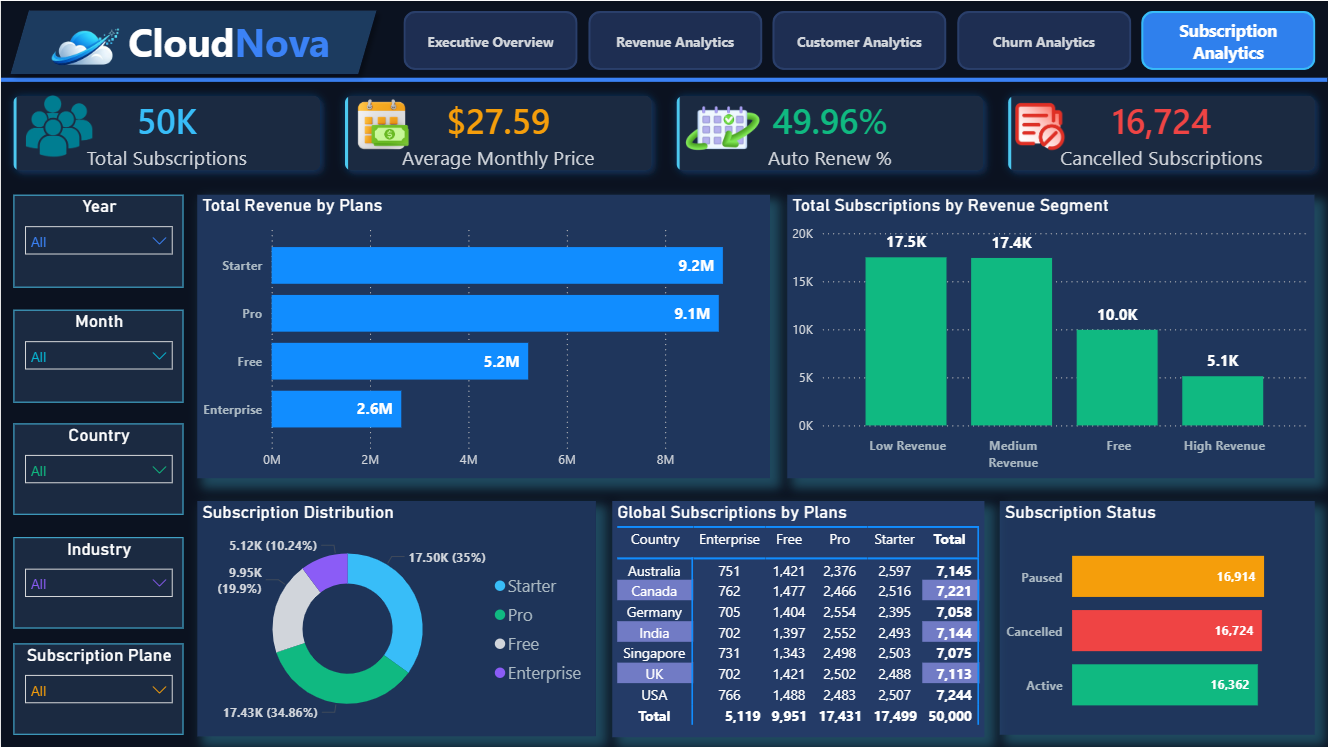

The page's visual inventory and layout, read from the dashboard file:
{"tool":"powerbi","page":{"name":"Subscription Analytics","canvas":[1280,720],"ordinal":4},"visuals":[{"type":"cardVisual","fields":{"Data":["customers_cleaned.Total Subscriptions","subscriptions_cleaned.Avg Monthly Price","subscriptions_cleaned.Auto Renew %","subscriptions_cleaned.Cancelled Subs"]},"box":[0,79.6,1280,96.5],"z":0},{"type":"shape","box":[0,57.5,1280,36.2],"z":1000},{"type":"image","box":[973.6,91.3,56,54.8],"z":2000},{"type":"image","box":[324.9,88.8,85.2,57.2],"z":3000},{"type":"image","box":[648.6,71.8,93.7,97.4],"z":4000},{"type":"image","box":[21.7,79.6,68.8,82],"z":5000},{"type":"clusteredBarChart","title":"Subscription Status","fields":{"Category":["subscriptions_cleaned.subscription_status"],"Y":["customers_cleaned.Total Subscriptions"]},"box":[963.9,482.6,304,225.6],"z":6000},{"type":"donutChart","title":"Subscription Distribution","fields":{"Category":["subscriptions_cleaned.plan_name"],"Y":["CountNonNull(subscriptions_cleaned.subscription_id)"]},"box":[189.8,483.1,384.6,227.6],"z":7000},{"type":"slicer","title":"Year","fields":{"Values":["Date_Table.Year"]},"box":[12.1,187,164.1,89.3],"z":8000},{"type":"slicer","title":"Country","fields":{"Values":["customers_cleaned.country"]},"box":[12.1,407.8,164.1,88.1],"z":9000},{"type":"slicer","title":"Industry","fields":{"Values":["customers_cleaned.industry"]},"box":[12.1,517.6,164.1,88.1],"z":10000},{"type":"slicer","title":"Subscription Plane","fields":{"Values":["subscriptions_cleaned.plan_name"]},"box":[12.1,620.1,164.1,88.1],"z":11000},{"type":"slicer","title":"Month","fields":{"Values":["Date_Table.Month"]},"box":[12.1,298,164.1,89.3],"z":12000},{"type":"clusteredBarChart","title":"Total Revenue by Plans","fields":{"Category":["subscriptions_cleaned.plan_name"],"Y":["customers_cleaned.Total Revenue"]},"box":[189.8,187.4,552.5,273.8],"z":13000},{"type":"columnChart","title":"Total Subscriptions by Revenue Segment","fields":{"Category":["subscriptions_cleaned.revenue_segment"],"Y":["customers_cleaned.Total Subscriptions"]},"box":[759.4,187.4,508.7,273.8],"z":14000},{"type":"pivotTable","title":"Global Subscriptions by  Plans","fields":{"Rows":["customers_cleaned.country"],"Columns":["subscriptions_cleaned.plan_name"],"Values":["customers_cleaned.Total Subscriptions"]},"box":[589.9,482.6,359.5,228],"z":15000},{"type":"shape","box":[0,0,371.6,79.6],"z":16000},{"type":"textbox","box":[94.1,9.7,252.1,70],"z":17000},{"type":"image","box":[0,0,161.7,89.3],"z":18000},{"type":"pageNavigator","box":[388.5,9.7,884.3,57.9],"z":19000}]}

Visuals, with their boxes in screenshot pixels (x1, y1, x2, y2), scaled from the page's 1280x720 canvas onto the 1328x747 screenshot:
cardVisual - customers_cleaned.Total Subscriptions x subscriptions_cleaned.Avg Monthly Price: (x1=0, y1=83, x2=1327, y2=183)
shape: (x1=0, y1=60, x2=1327, y2=97)
image: (x1=1010, y1=95, x2=1068, y2=152)
image: (x1=337, y1=92, x2=425, y2=151)
image: (x1=673, y1=74, x2=770, y2=176)
image: (x1=23, y1=83, x2=94, y2=168)
"Subscription Status" clusteredBarChart: (x1=1000, y1=501, x2=1315, y2=735)
"Subscription Distribution" donutChart: (x1=197, y1=501, x2=596, y2=737)
"Year" slicer: (x1=13, y1=194, x2=183, y2=287)
"Country" slicer: (x1=13, y1=423, x2=183, y2=514)
"Industry" slicer: (x1=13, y1=537, x2=183, y2=628)
"Subscription Plane" slicer: (x1=13, y1=643, x2=183, y2=735)
"Month" slicer: (x1=13, y1=309, x2=183, y2=402)
"Total Revenue by Plans" clusteredBarChart: (x1=197, y1=194, x2=770, y2=478)
"Total Subscriptions by Revenue Segment" columnChart: (x1=788, y1=194, x2=1316, y2=478)
"Global Subscriptions by  Plans" pivotTable: (x1=612, y1=501, x2=985, y2=737)
shape: (x1=0, y1=0, x2=386, y2=83)
textbox: (x1=98, y1=10, x2=359, y2=83)
image: (x1=0, y1=0, x2=168, y2=93)
pageNavigator: (x1=403, y1=10, x2=1321, y2=70)
